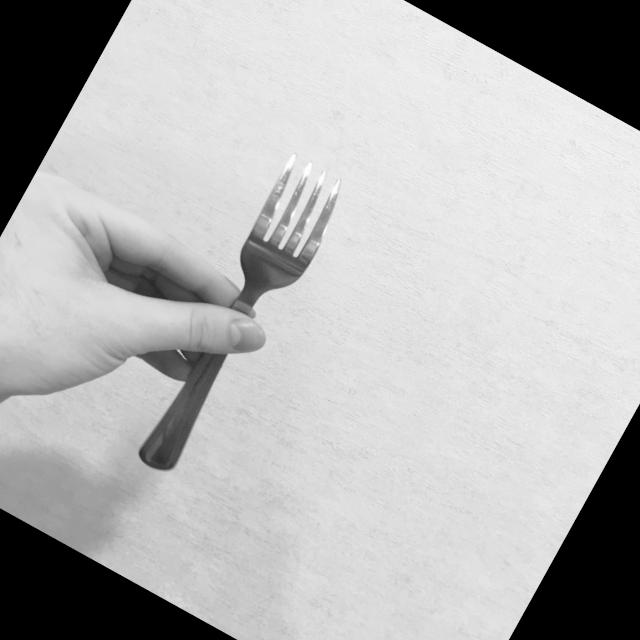fork: (122, 148, 358, 490)
